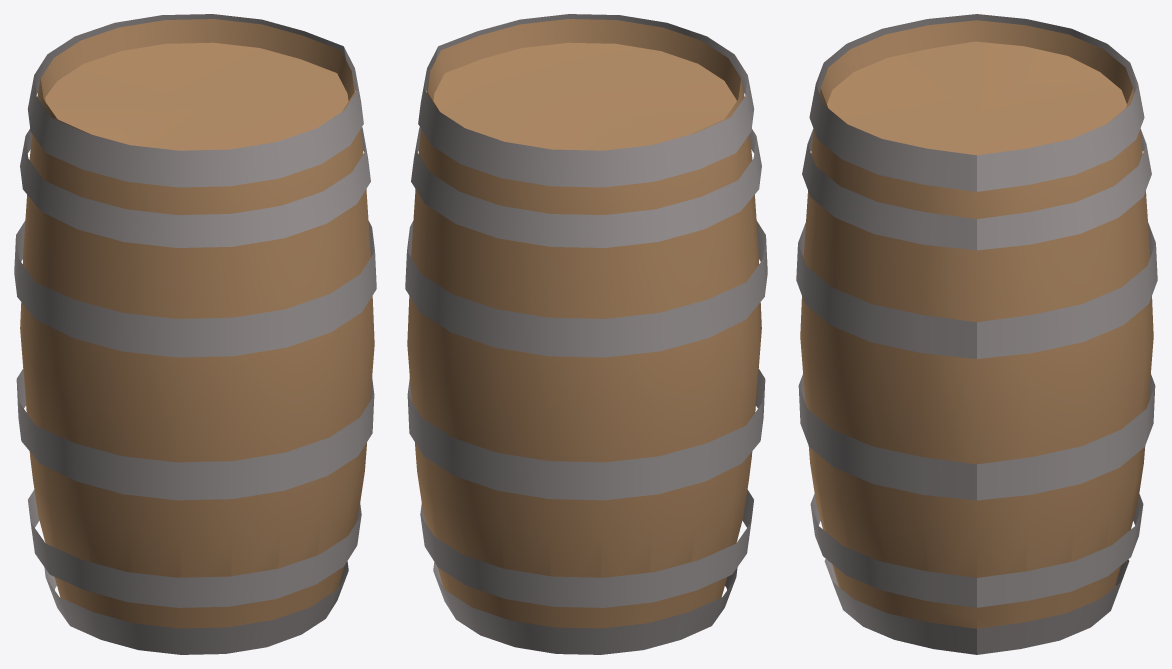
The model's file is 1_5x barrel.fbx.
3 renders of one model, left to right at view 1: azimuth 30°, elevation 25°; view 2: azimuth 150°, elevation 25°; view 3: azimuth 270°, elevation 25°, orthographic.
Visible parts, largest first — view 1: pCylinder1, pCylinder9; view 2: pCylinder1, pCylinder9; view 3: pCylinder1, pCylinder9.
Boxes of the visible parts, x1,y1,x2,y2 form: pCylinder1: [20, 19, 374, 628]; pCylinder9: [14, 14, 376, 654]; pCylinder1: [407, 19, 761, 628]; pCylinder9: [405, 14, 767, 654]; pCylinder1: [800, 20, 1153, 628]; pCylinder9: [796, 14, 1157, 654].
Bounding box in the file's own units: 101 × 152 × 97.94.
